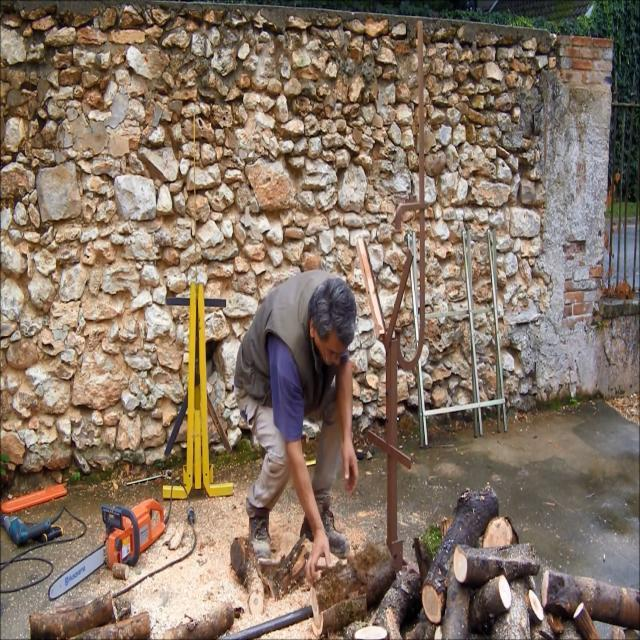Chainsaw: (38, 468, 180, 631)
